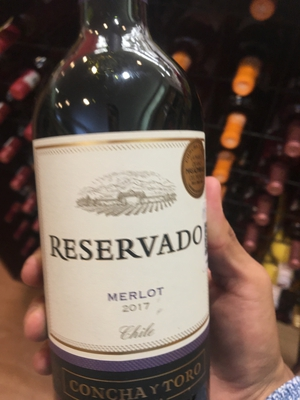reservado merlot: (30, 18, 239, 400)
